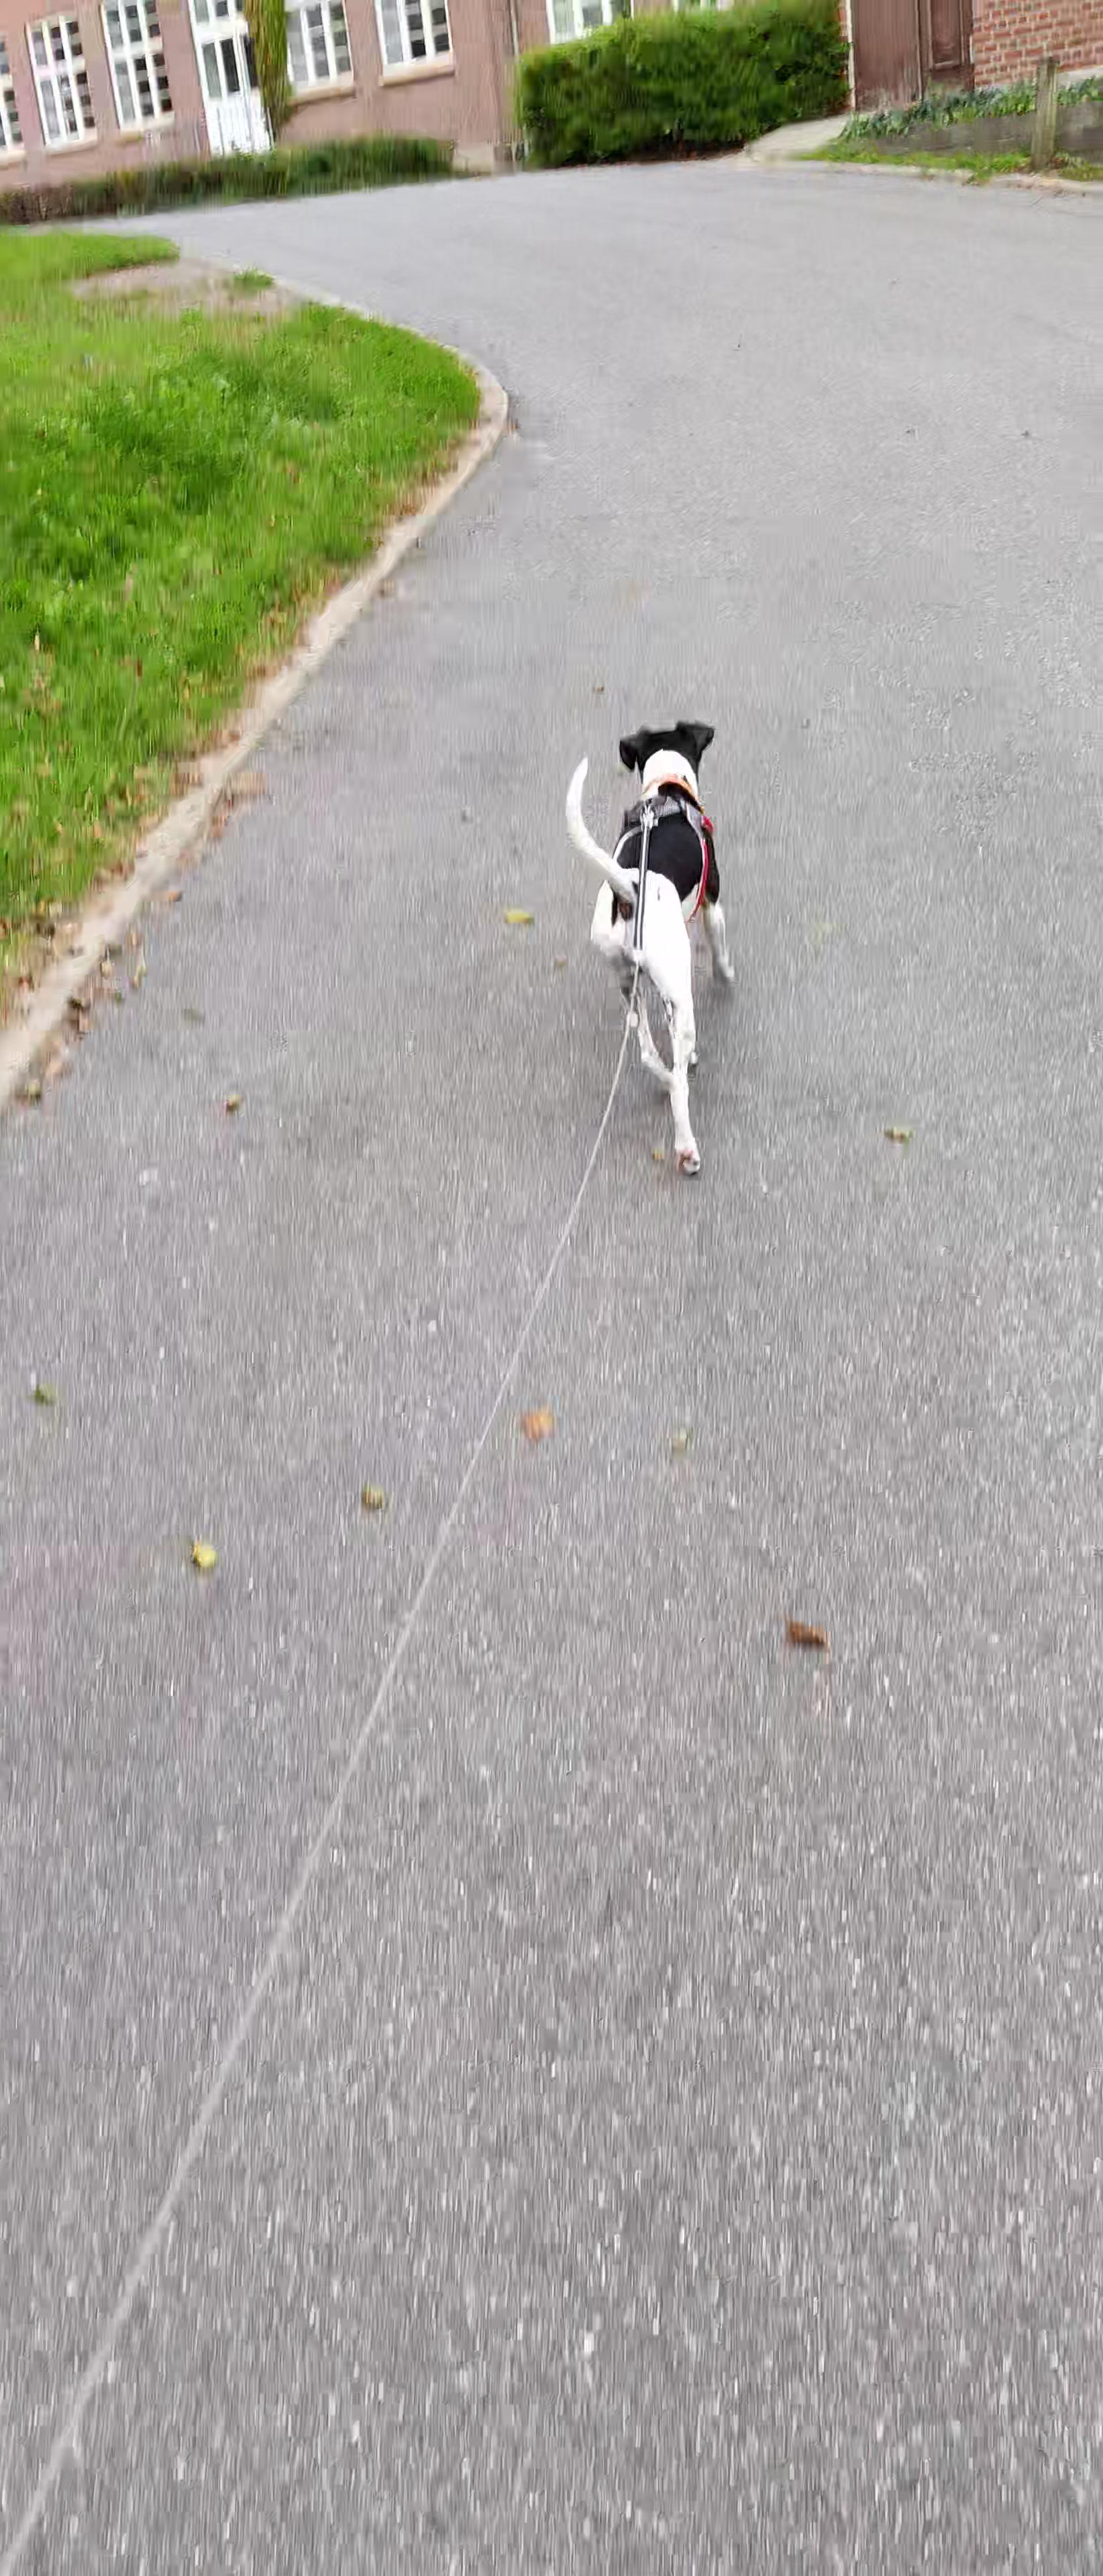Dog: (561, 720, 743, 1180)
